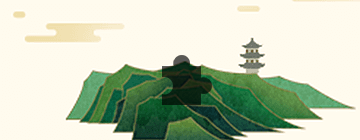target: (162, 55, 212, 105)
